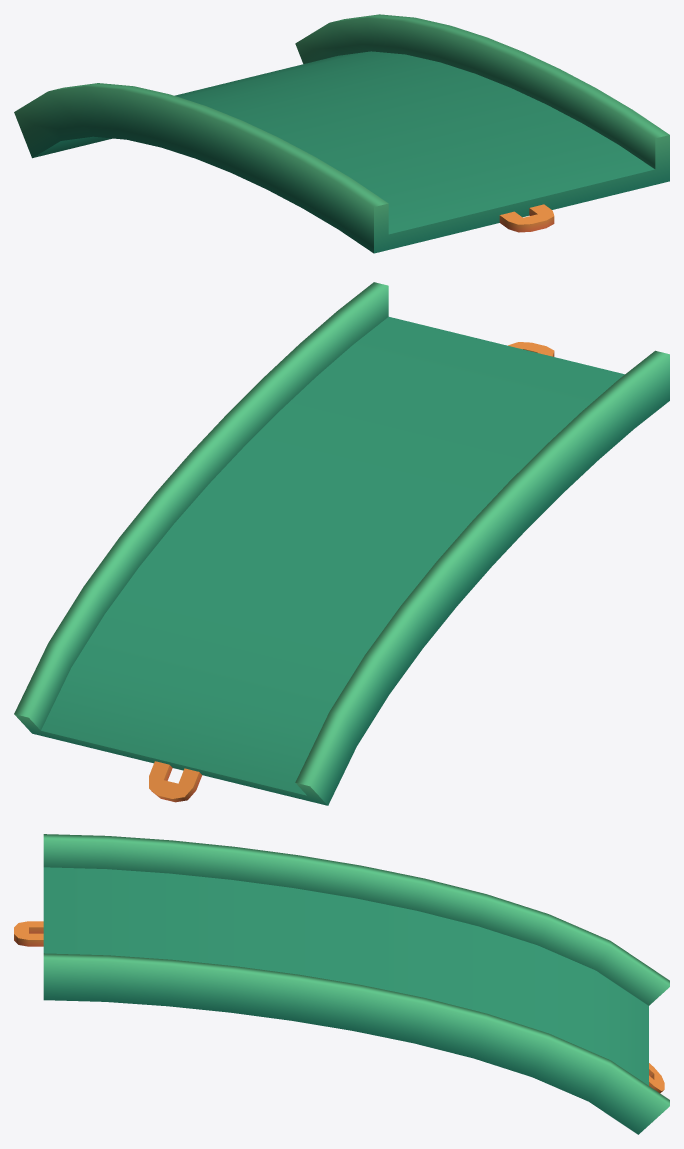
Rendered from track-wide-straight-hill-end.fbx.
3 renders of one model, top to bottom at view 1: azimuth 30°, elevation 25°; view 2: azimuth 150°, elevation 25°; view 3: azimuth 270°, elevation 25°, orthographic. The views are drawn at different scales.
Visible parts, largest first — view 1: track-wide-straight-hill-end; view 2: track-wide-straight-hill-end; view 3: track-wide-straight-hill-end.
Boxes of the visible parts, x1=… form: track-wide-straight-hill-end: x1=14, y1=14, x2=669, y2=253; track-wide-straight-hill-end: x1=14, y1=282, x2=669, y2=805; track-wide-straight-hill-end: x1=14, y1=834, x2=669, y2=1134.
Size of the model in its own units: 200 by 144 by 441.
